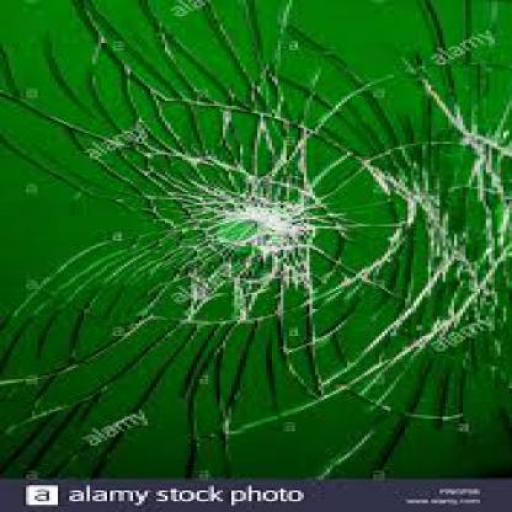glass: (0, 0, 510, 479), (170, 293, 509, 470), (60, 66, 370, 192), (12, 9, 434, 101), (350, 126, 510, 361), (9, 186, 188, 362), (0, 300, 223, 434), (206, 258, 402, 386), (102, 196, 292, 318), (286, 58, 509, 140), (367, 5, 509, 121)
